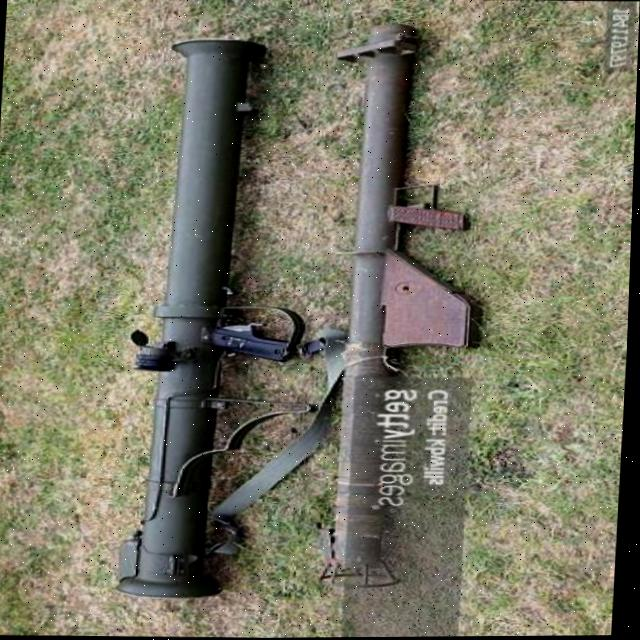rocket: (108, 26, 495, 616)
